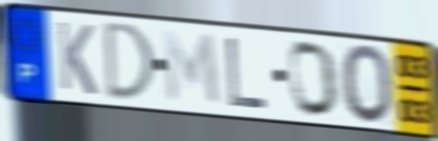D: (103, 20, 158, 103)
K: (54, 18, 99, 99)
L: (223, 34, 270, 112)
M: (160, 27, 224, 110)
O: (340, 41, 396, 127), (287, 39, 341, 120)
